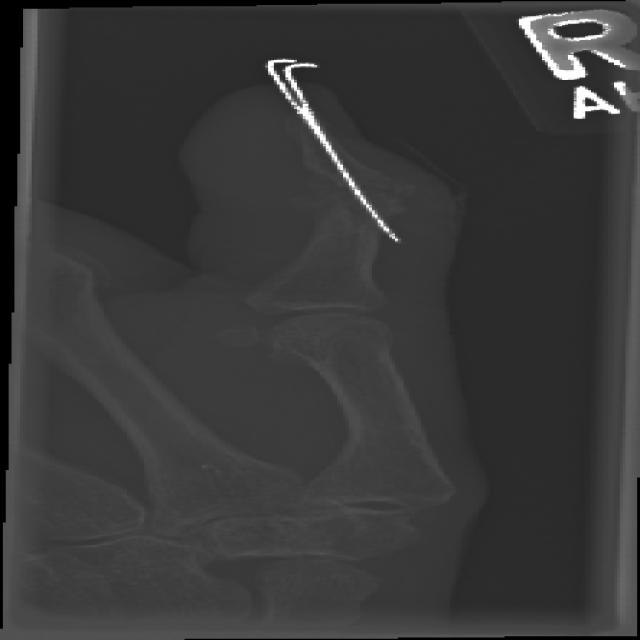fingers positive: (269, 138, 450, 260)
